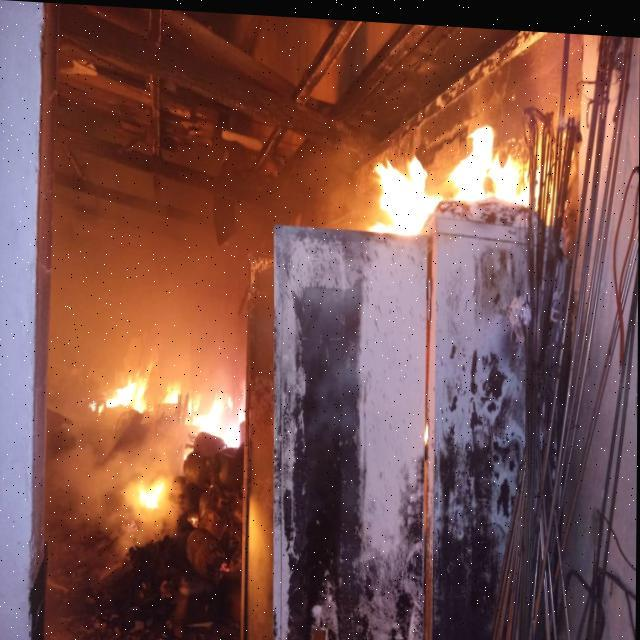Fire: (362, 120, 542, 232), (187, 385, 246, 451), (86, 363, 152, 412), (126, 470, 166, 508), (160, 378, 186, 404)
